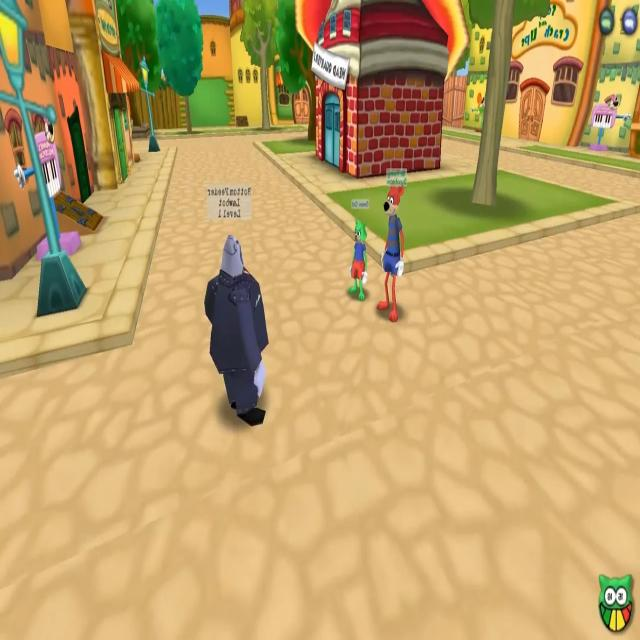bottomfeeder: (201, 176, 275, 429)
